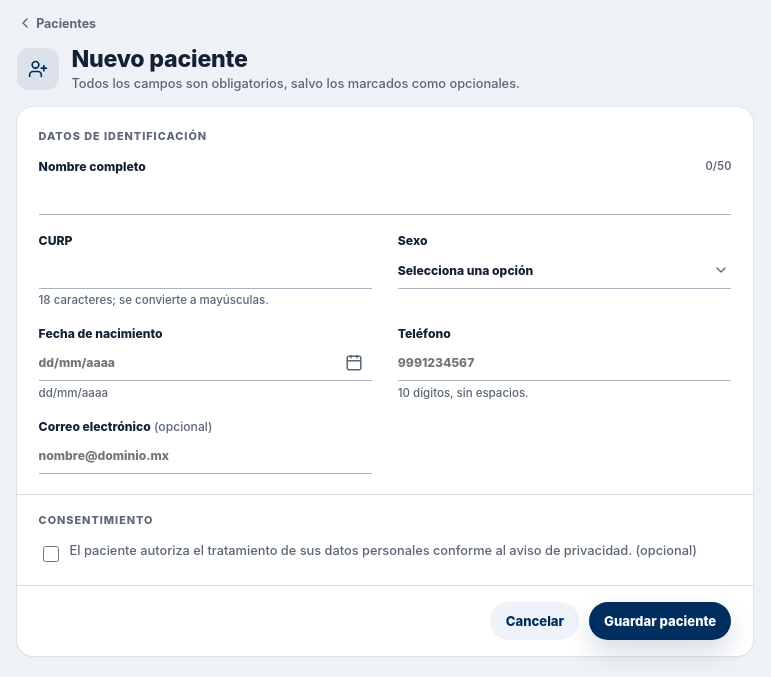
Test: registro de paciente (EDT 4.3.1) › avisa de un CURP ya registrado con la verificación anticipada (CA-3.1-03)
The width and height of the screenshot is (771, 677).
Type "KUEV090825MYNXSLA3" into the field labelled "CURP" at point(205, 271), box [39,253,372,289]
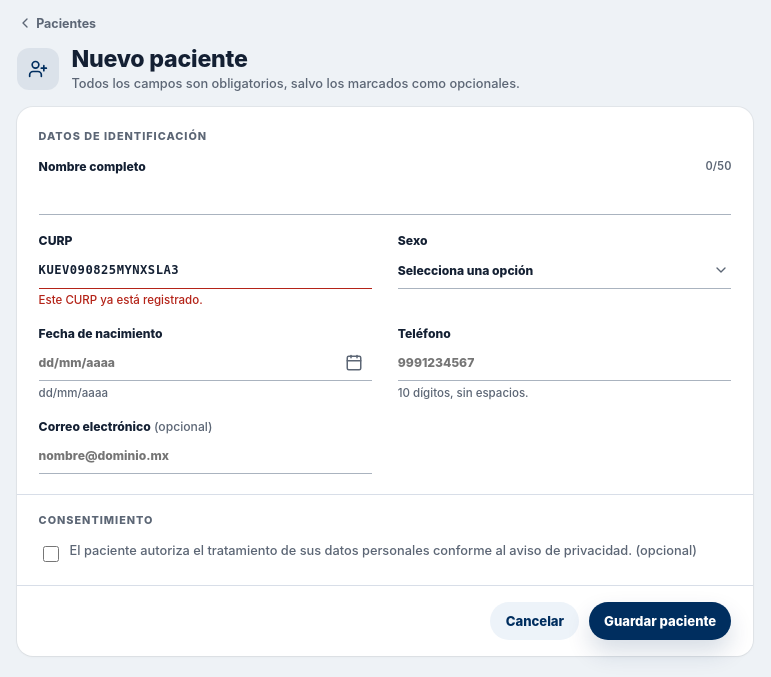
Result: the text "Este CURP ya está registrado." is shown at [39,293,203,307]
